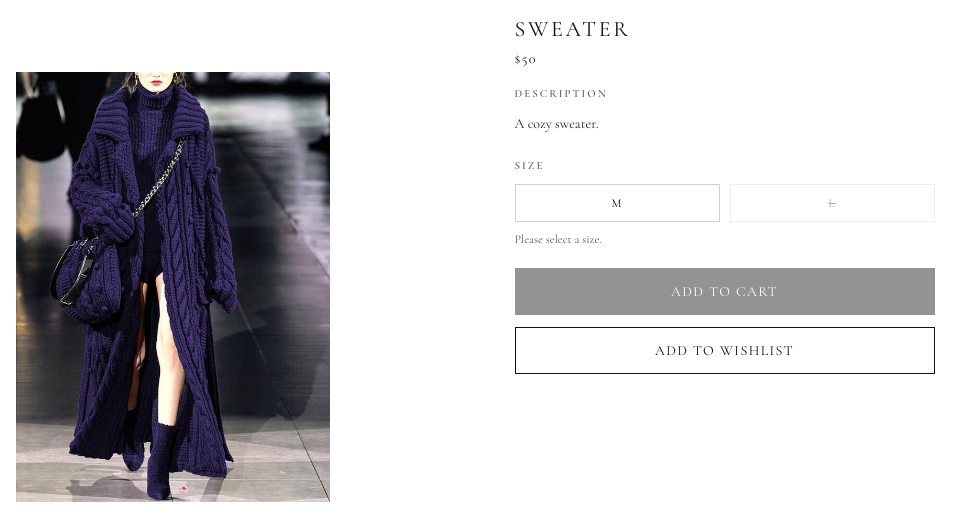
Test case: ProductDetails - add to cart › adds to guest cart when a size is selected and user is not authenticated
The width and height of the screenshot is (958, 519).
Expected: the heading "Sweater" is shown, x1=514 y1=16 x2=631 y2=42
Click the option "M" at (617, 203), box x1=514 y1=184 x2=720 y2=222
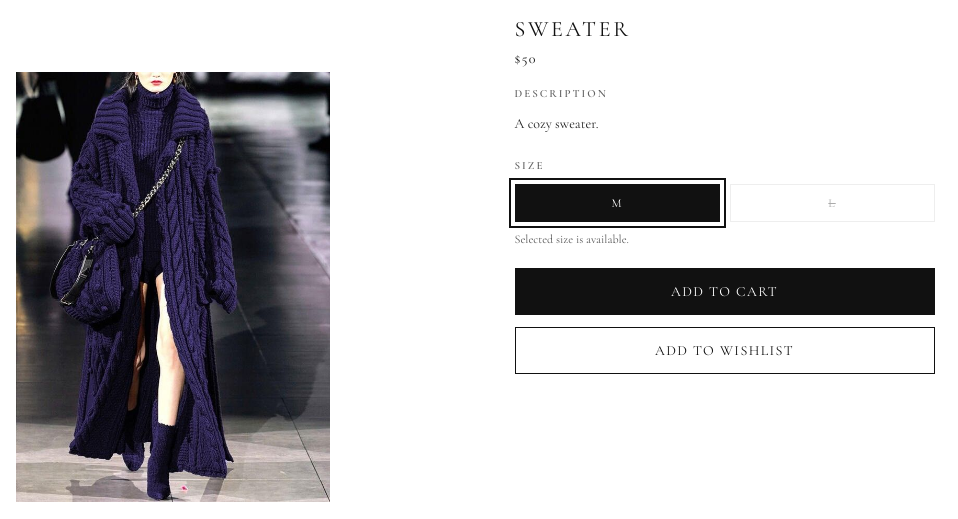
Click the button "Add to cart" at (724, 292), box x1=514 y1=268 x2=934 y2=315
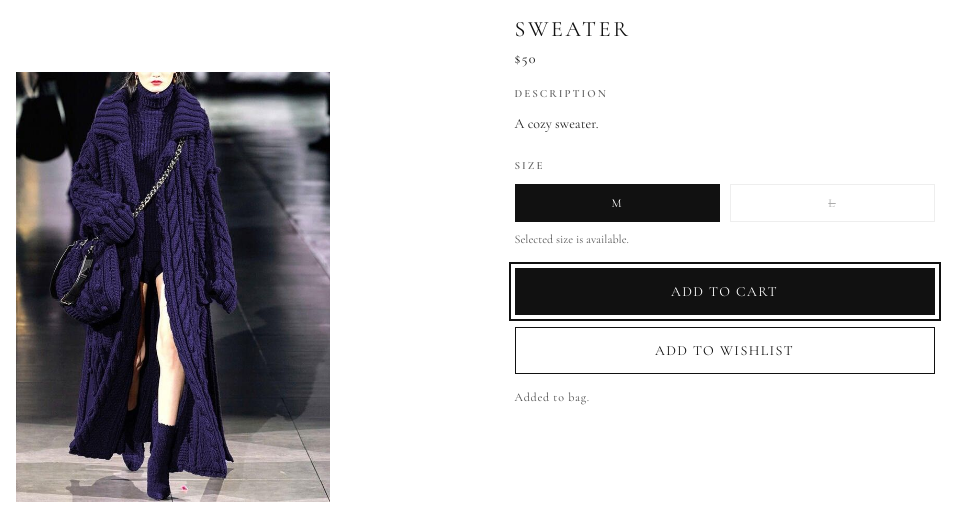
Now the text "Added to bag." is shown, box x1=514 y1=390 x2=590 y2=404
